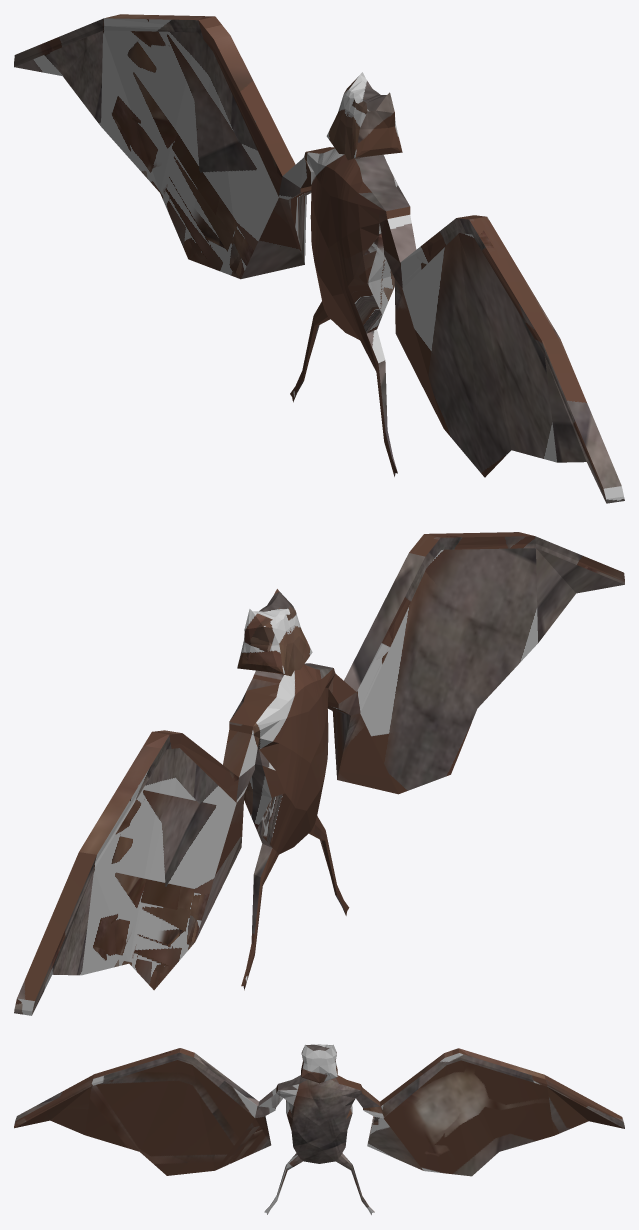
Rendered from Enemigo12.obj.
3 views of the same model, one above another, from view 1: azimuth 30°, elevation 25°; view 2: azimuth 150°, elevation 25°; view 3: azimuth 270°, elevation 25° (orthographic). The views are drawn at different scales.
Visible parts, largest first — view 1: Plano; view 2: Plano; view 3: Plano.
Boxes of the visible parts, x1,y1,x2,y2 form: Plano: [14, 14, 624, 503]; Plano: [14, 532, 624, 1015]; Plano: [14, 1044, 624, 1214].
Size of the model in its own units: 0.1809 by 0.7562 by 2.34.
1 material, 1 textured.
